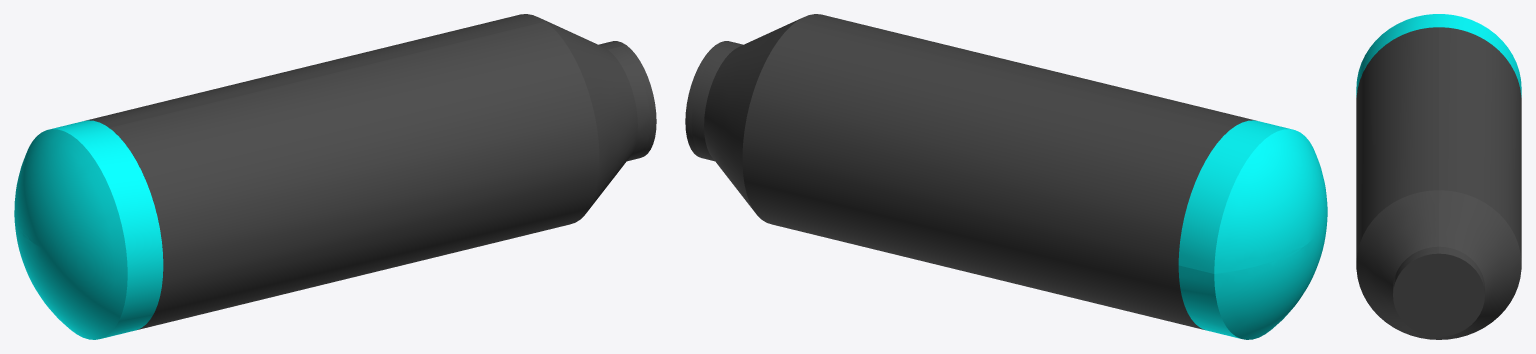
Rendered from pod.fbx.
The picture shows the model from 3 angles, left to right: view 1: azimuth 30°, elevation 25°; view 2: azimuth 150°, elevation 25°; view 3: azimuth 270°, elevation 25°; orthographic projection. The views are drawn at different scales.
Parts seen in each view (by area): view 1: nodes[0], nodes[1], nodes[2]; view 2: nodes[0], nodes[1], nodes[2]; view 3: nodes[0], nodes[2], nodes[1].
Boxes of the visible parts, x1,y1,x2,y2 form: nodes[0]: (85, 14, 650, 329); nodes[1]: (14, 120, 163, 339); nodes[2]: (607, 41, 656, 159); nodes[0]: (691, 14, 1256, 329); nodes[1]: (1178, 120, 1327, 339); nodes[2]: (685, 41, 734, 159); nodes[0]: (1356, 27, 1521, 339); nodes[2]: (1393, 251, 1484, 336); nodes[1]: (1356, 14, 1521, 97).
Size of the model in its own units: 9500 by 3000 by 3000.
